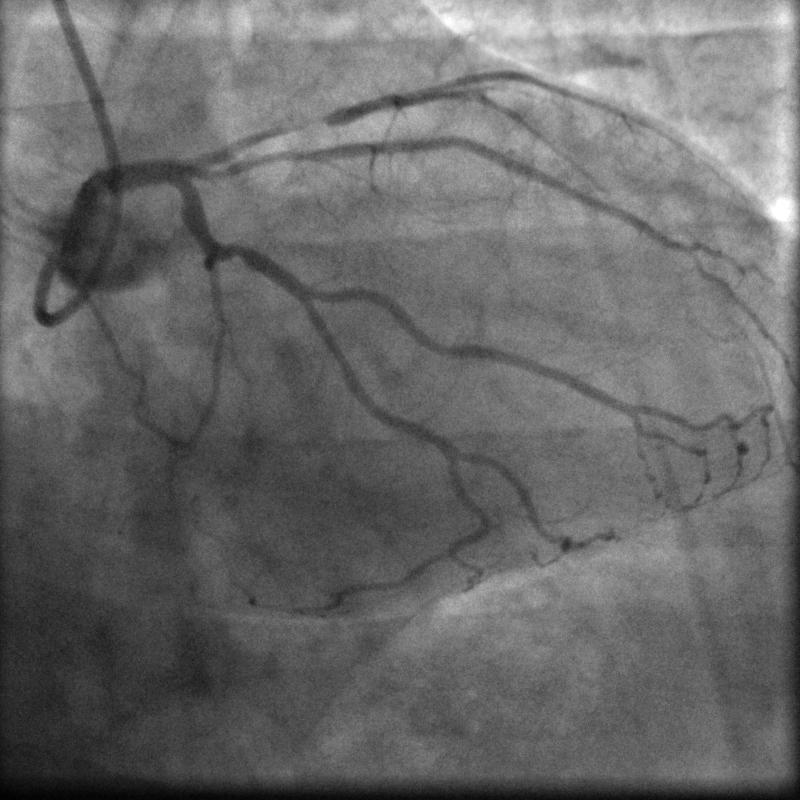Stenosis: (224, 239, 249, 261)
